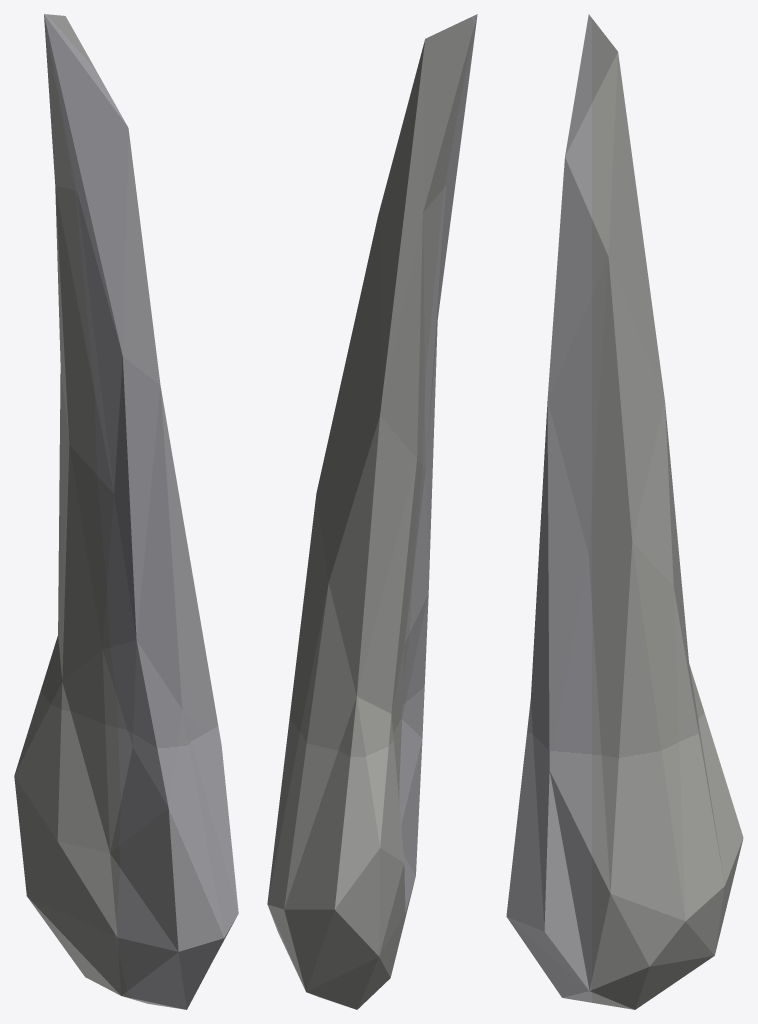
The model's file is YN_Bones2.fbx.
3 renders of one model, left to right at view 1: azimuth 30°, elevation 25°; view 2: azimuth 150°, elevation 25°; view 3: azimuth 270°, elevation 25°, orthographic. The views are drawn at different scales.
Parts seen in each view (by area): view 1: YN_Bones2; view 2: YN_Bones2; view 3: YN_Bones2.
Part boxes in pixels (bbox=[...]): YN_Bones2: bbox=[14, 14, 238, 1009]; YN_Bones2: bbox=[267, 14, 477, 1009]; YN_Bones2: bbox=[506, 14, 743, 1009].
Bounding box in the file's own units: 1.56 × 8.18 × 1.88.
